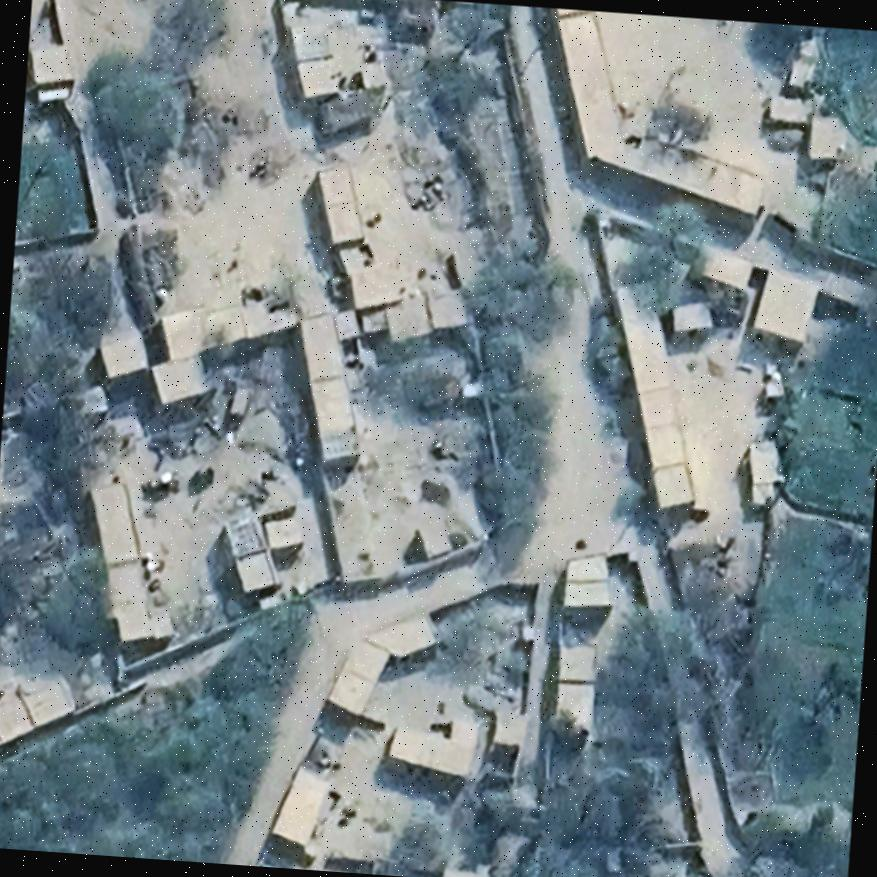Solarpanel: (225, 517, 265, 558), (317, 428, 358, 459)
